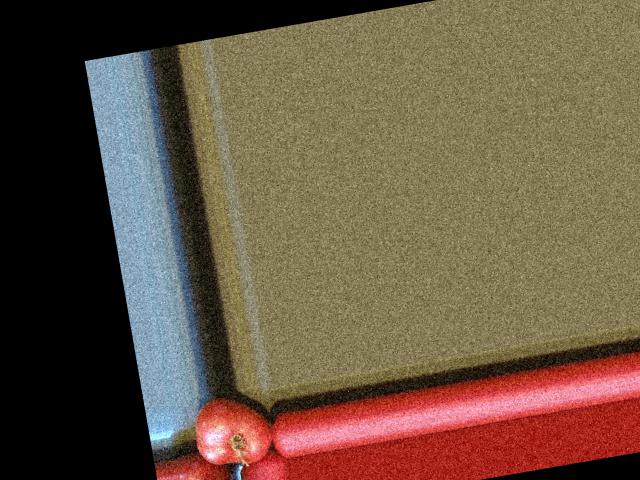tomato: (190, 390, 275, 471)
